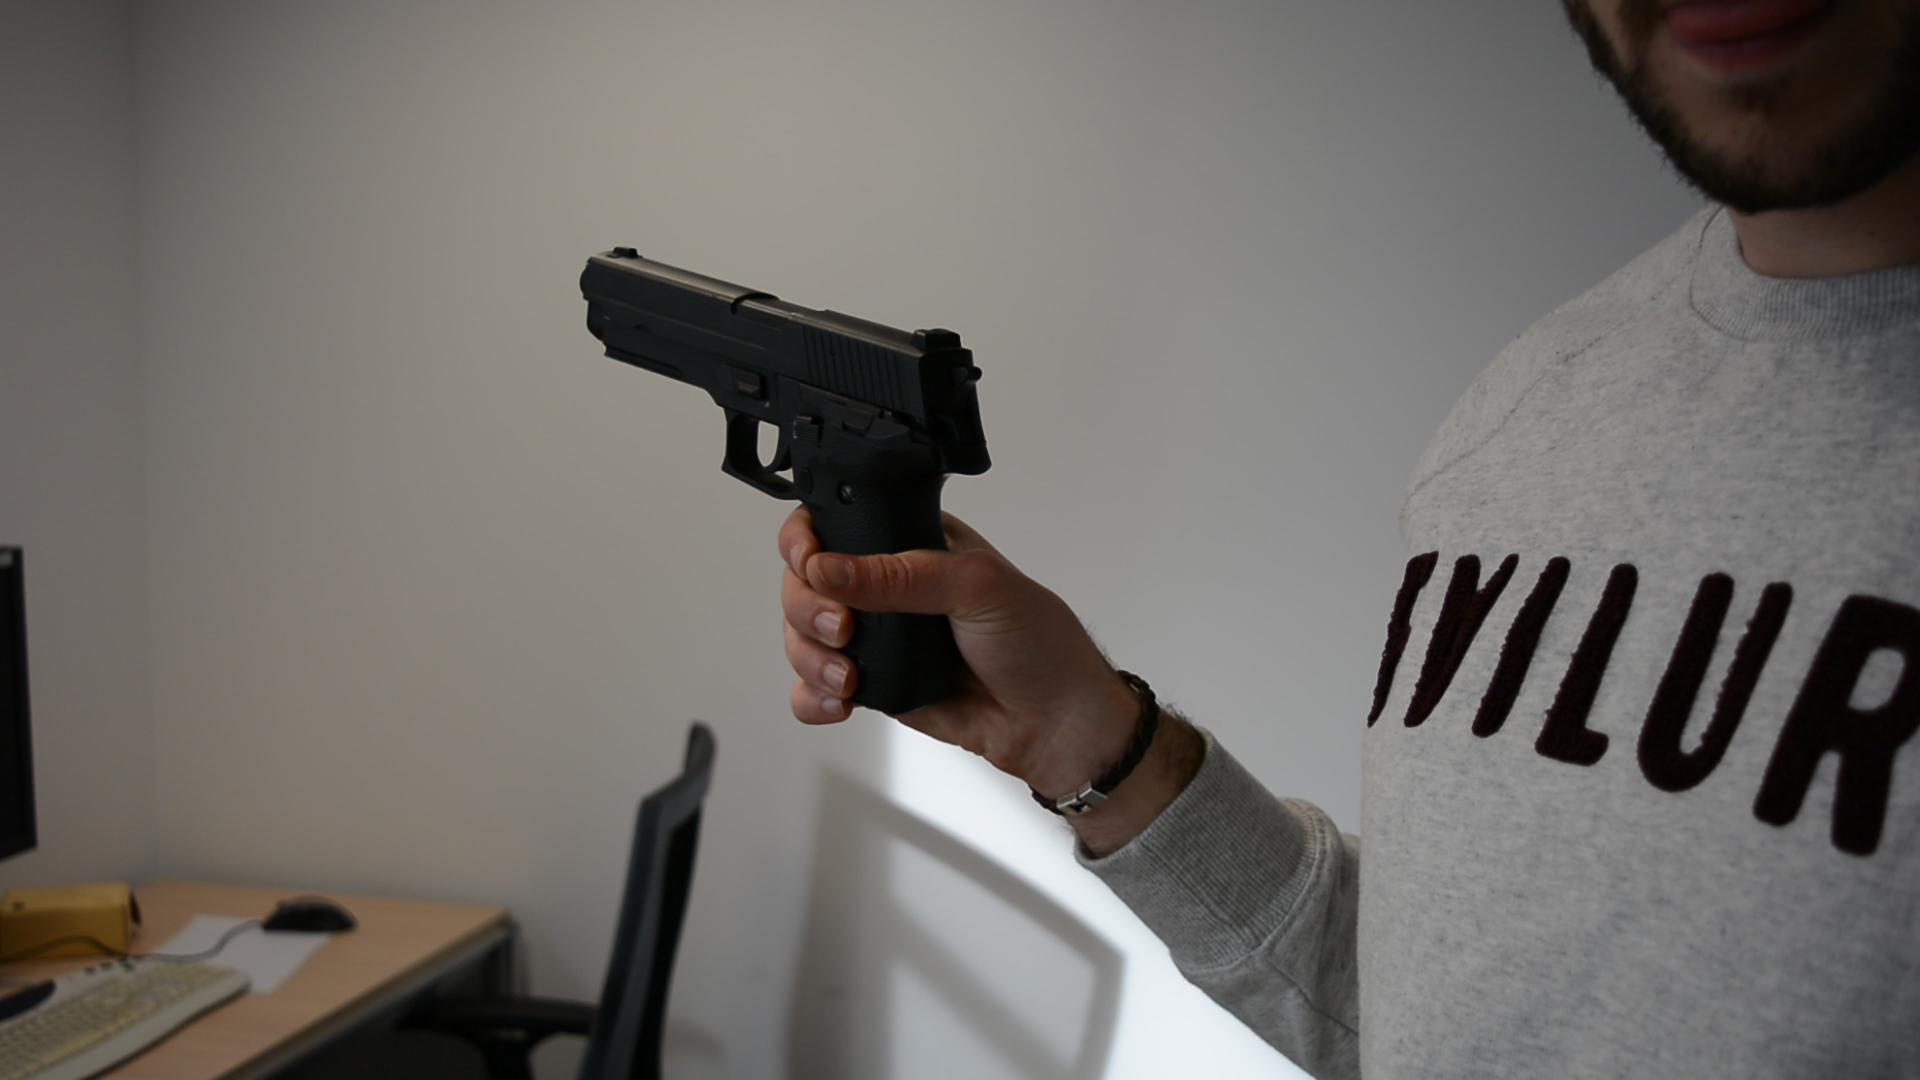pistol: (578, 244, 994, 719)
